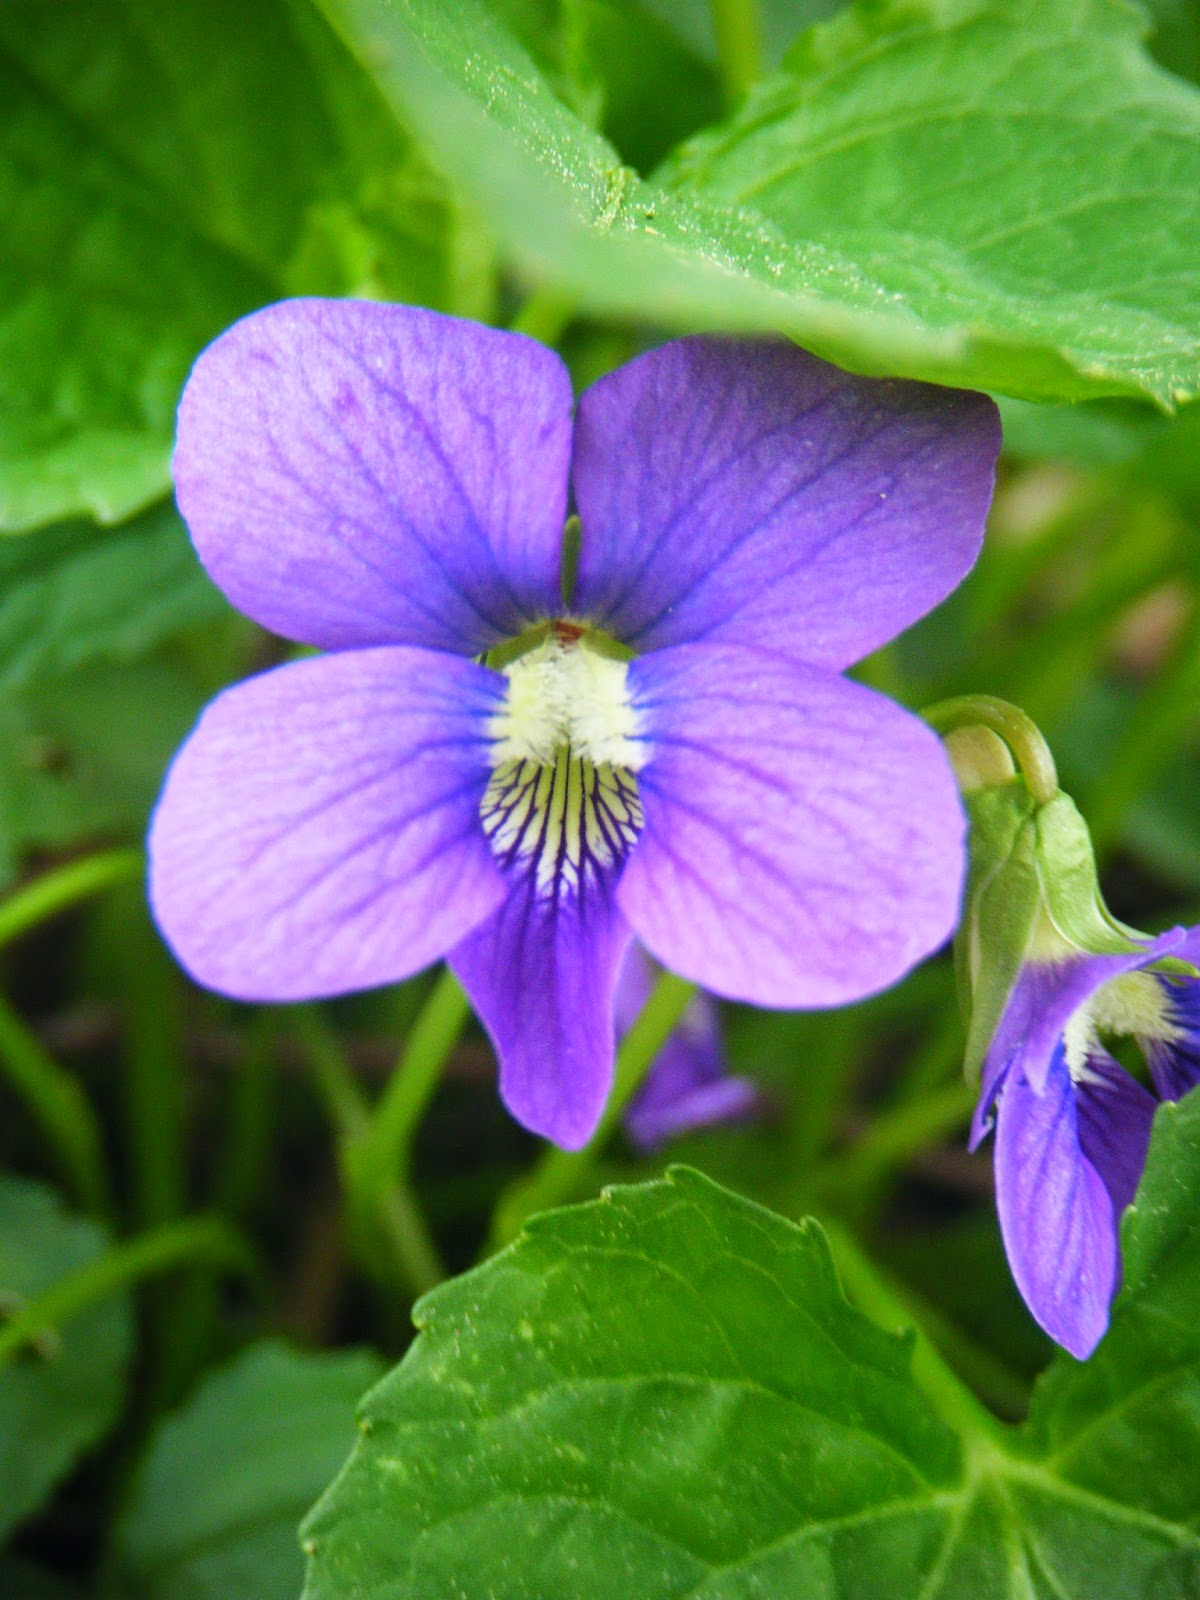violet: (136, 271, 1005, 1073)
